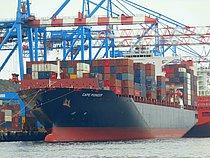Ship: (16, 55, 203, 144)
